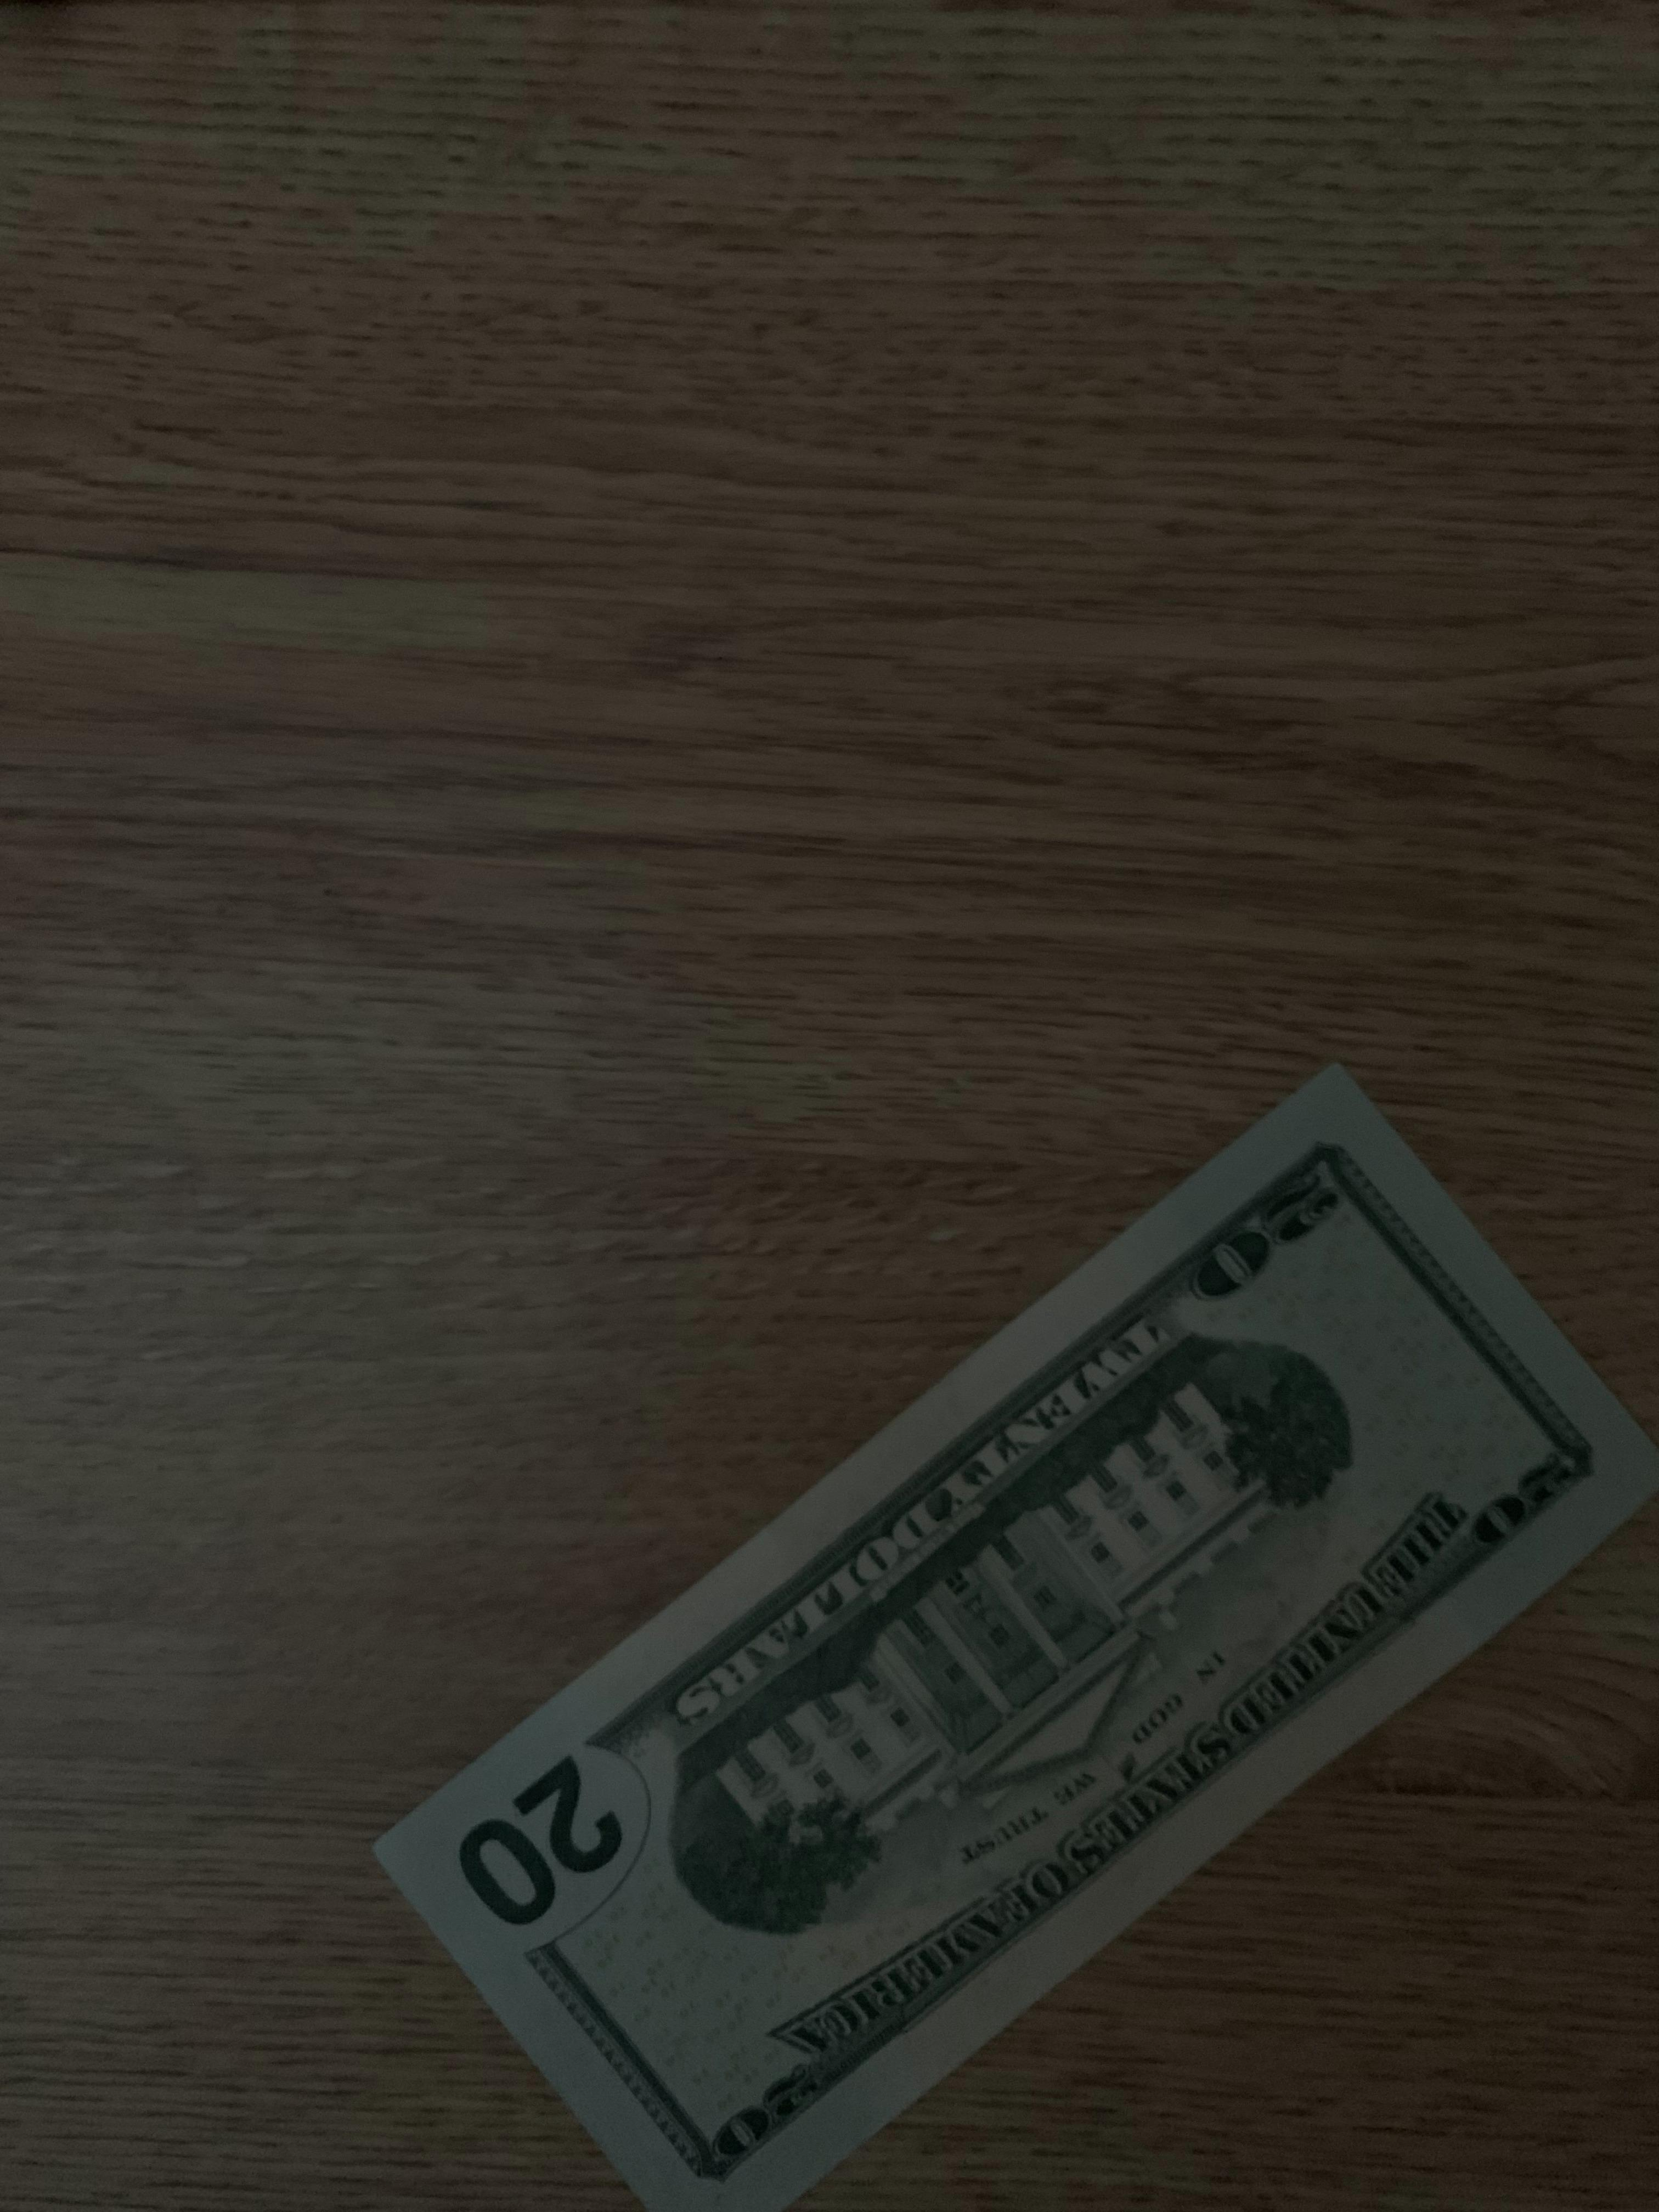TwentyBill: (368, 1057, 1657, 2207)
